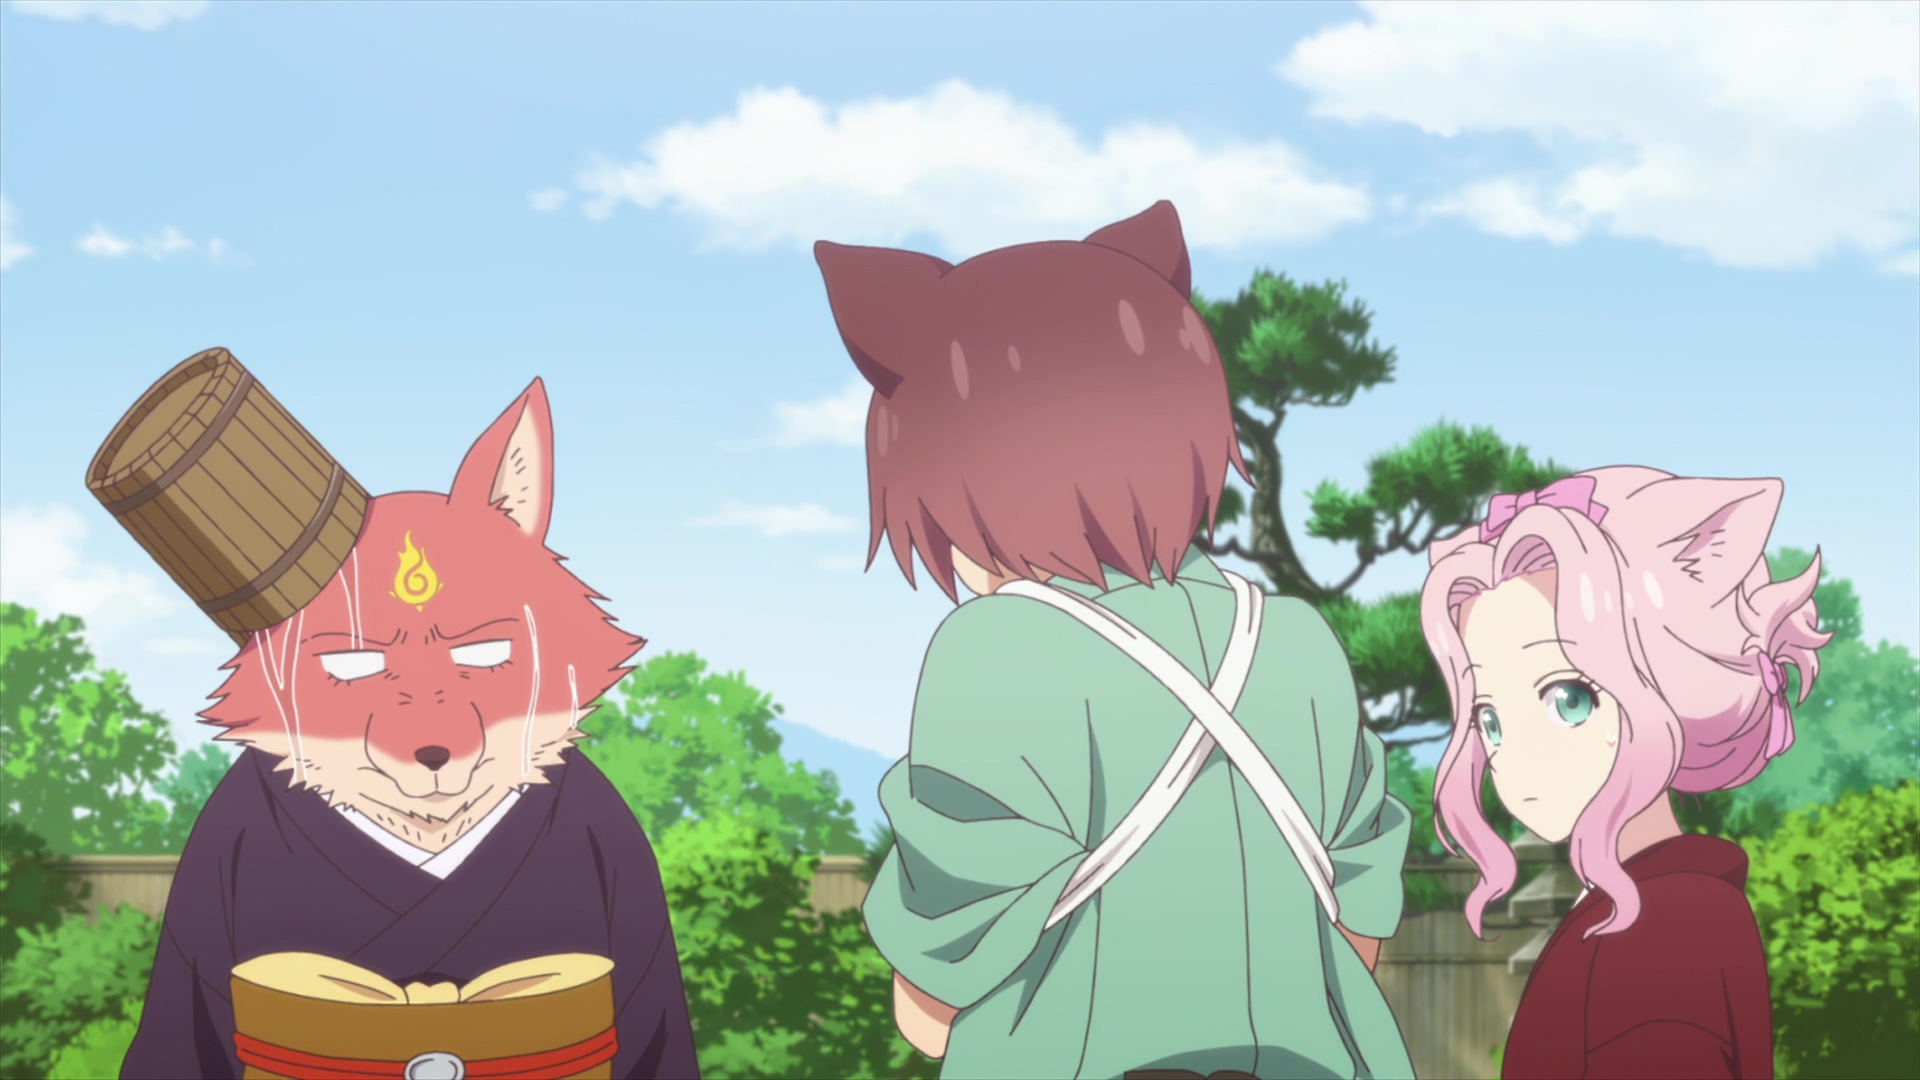枣: (812, 198, 1416, 1080)
椿: (84, 345, 698, 1080)
莲: (1418, 467, 1833, 1080)
